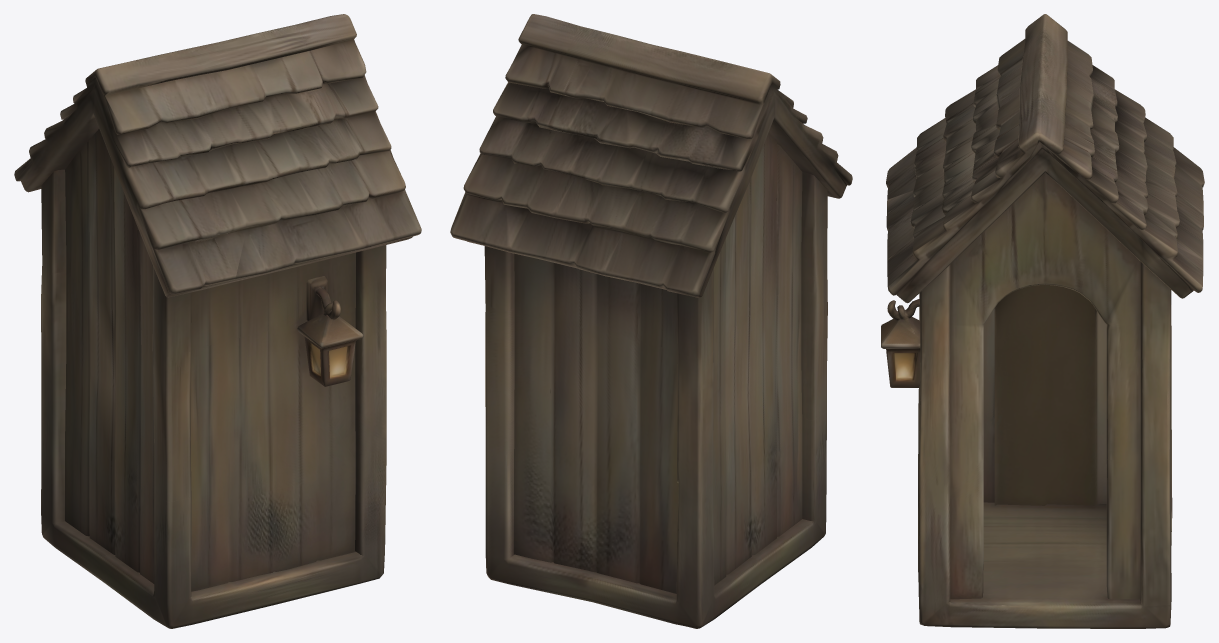
File: SM_Env_SohoPoliceRattleBox.fbx
The picture shows the model from 3 angles, left to right: view 1: azimuth 30°, elevation 25°; view 2: azimuth 150°, elevation 25°; view 3: azimuth 270°, elevation 25°; orthographic projection.
Visible parts, largest first — view 1: SM_Env_SohoPoliceRattleBox; view 2: SM_Env_SohoPoliceRattleBox; view 3: SM_Env_SohoPoliceRattleBox.
Part boxes in pixels (<box>): SM_Env_SohoPoliceRattleBox: <box>14,14,421,628</box>; SM_Env_SohoPoliceRattleBox: <box>450,14,852,628</box>; SM_Env_SohoPoliceRattleBox: <box>881,14,1204,628</box>.
Size of the model in its own units: 36.69 by 41.54 by 72.
Materials: 1 (1 with a texture image).
